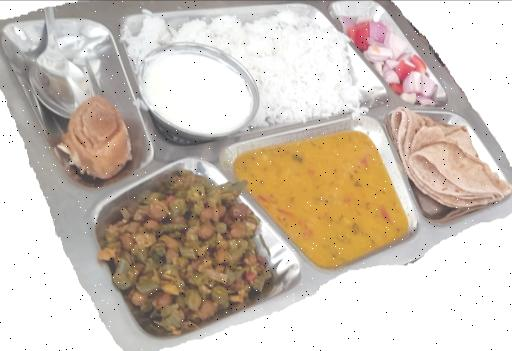Curd: (138, 48, 262, 137)
Dal: (240, 132, 406, 262)
Rice: (134, 3, 362, 124)
Roti: (394, 104, 508, 202)
Salad: (365, 8, 443, 96)
Sweet: (56, 98, 132, 180)
Vegetable: (104, 184, 258, 324)
